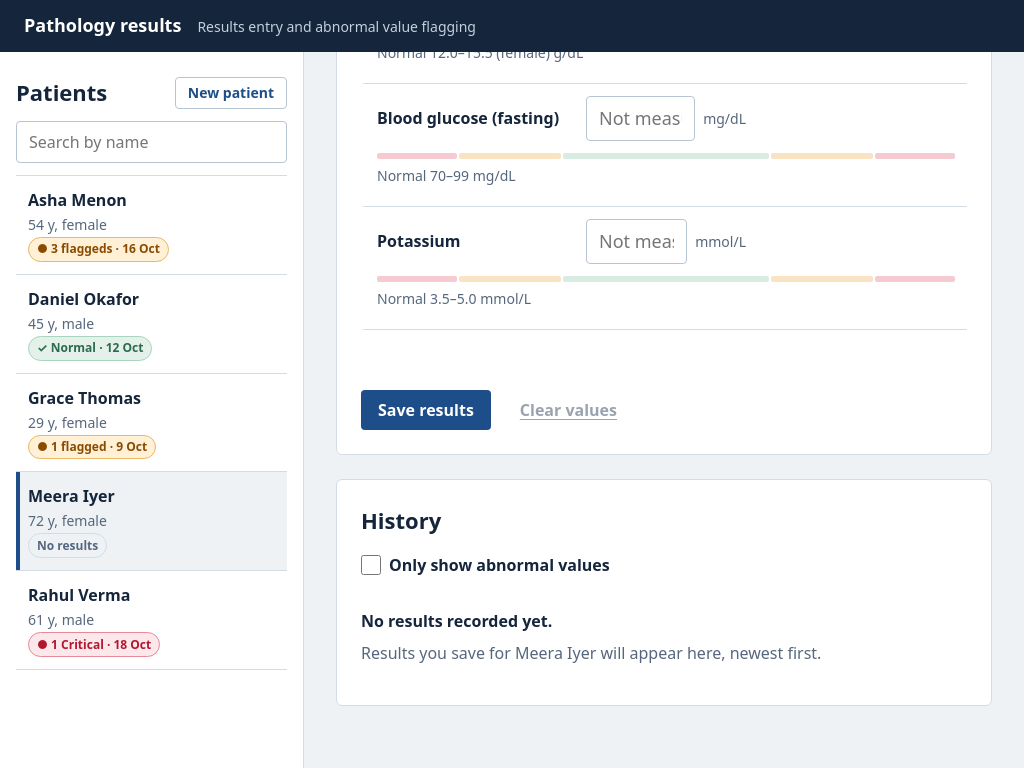
Test: results entry › asks for at least one value before saving
(page scrolled)
Click the button "Save results". click: (426, 410)
box: [361,390,491,430]
(page scrolled)
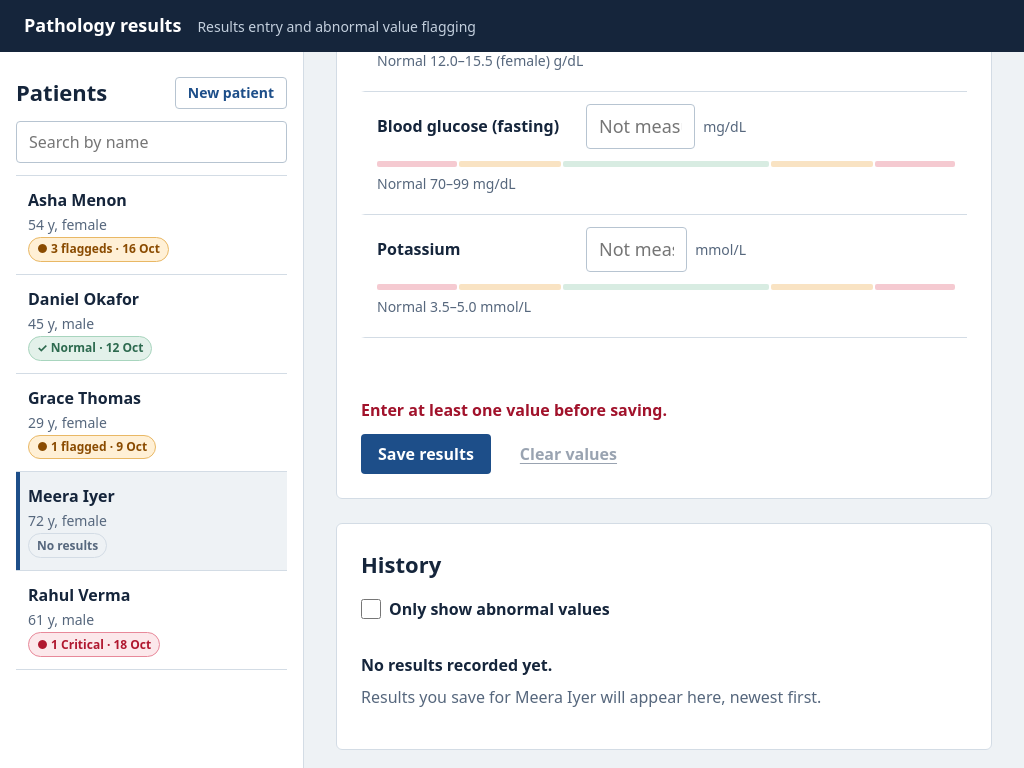
Expected: the text "Enter at least one value before saving." is shown, [361,399,667,421]
